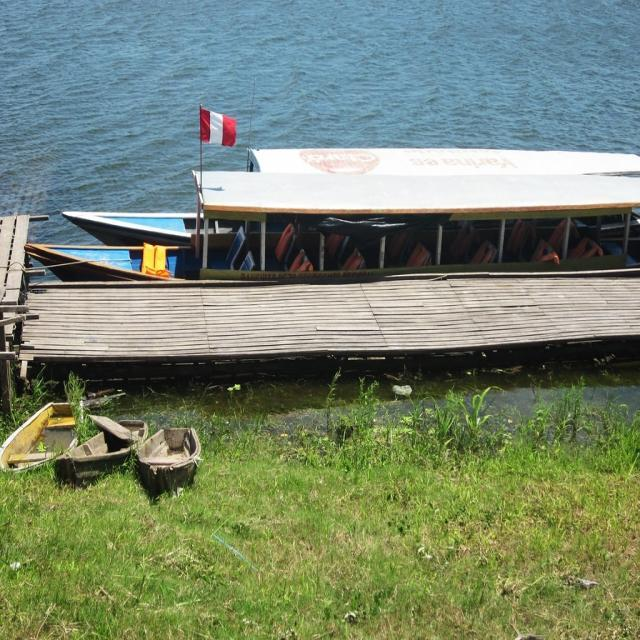boat: (22, 172, 640, 278), (1, 396, 82, 478), (53, 418, 144, 481), (134, 416, 198, 484)
